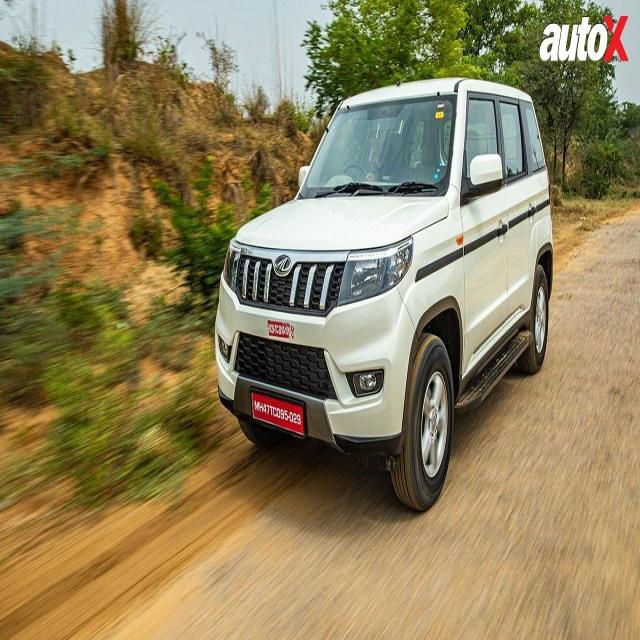light_vehicle: (210, 76, 554, 508)
